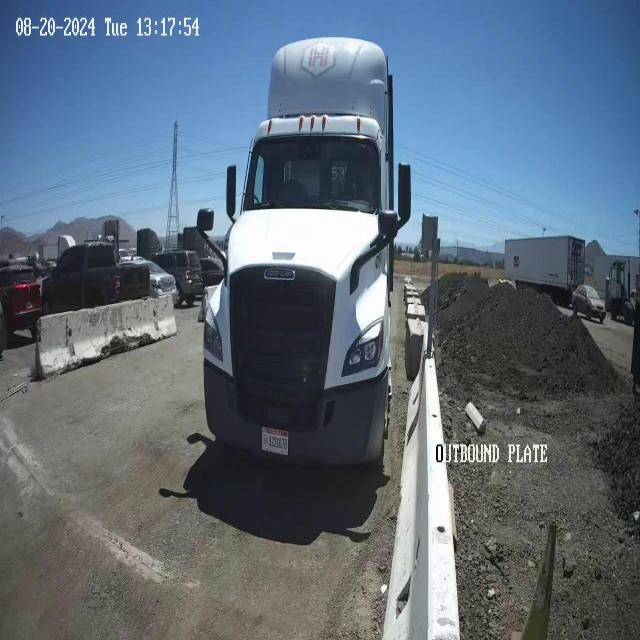TRUCK_OUT: (196, 36, 410, 472)
